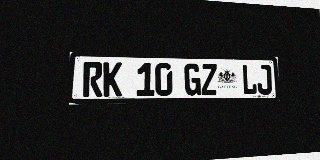0: (155, 63, 172, 96)
1: (137, 63, 154, 96)
G: (184, 63, 201, 96)
J: (257, 65, 272, 95)
K: (103, 62, 122, 97)
L: (242, 64, 257, 95)
R: (83, 62, 103, 97)
Z: (201, 64, 217, 95)
